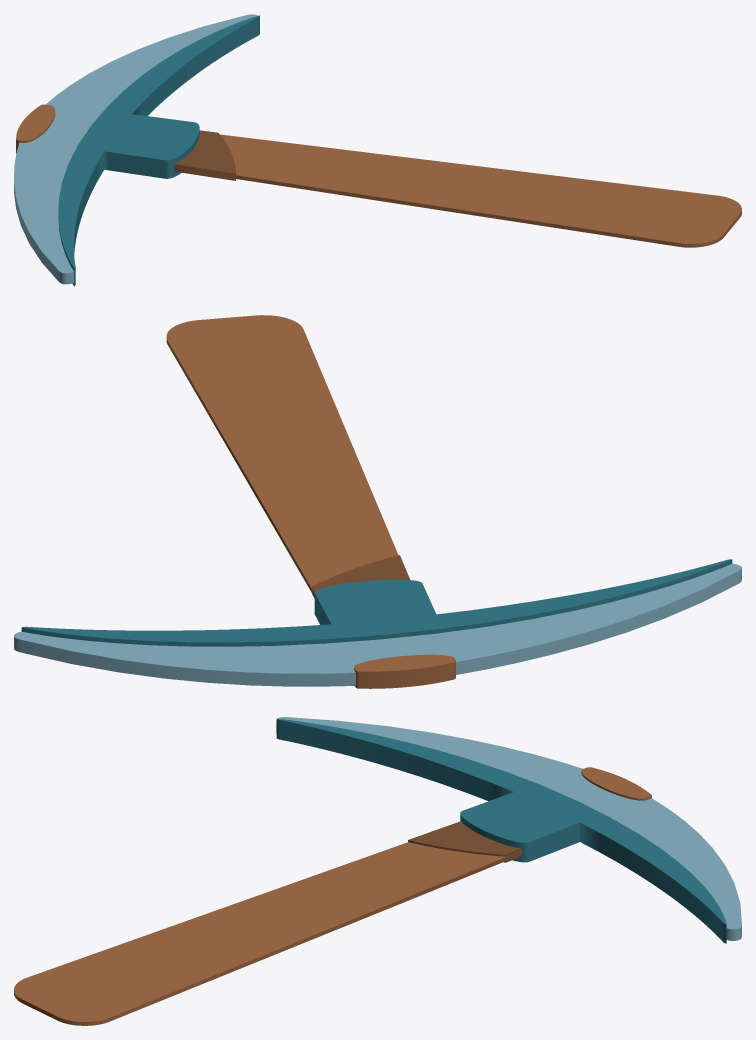
The model's file is emoji_u26cf.glb.
3 views of the same model, one above another, from view 1: azimuth 30°, elevation 25°; view 2: azimuth 150°, elevation 25°; view 3: azimuth 270°, elevation 25° (orthographic). The views are drawn at different scales.
Visible parts, largest first — view 1: emoji_u26cf; view 2: emoji_u26cf; view 3: emoji_u26cf.
Boxes of the visible parts, bbox=[...] form: emoji_u26cf: bbox=[14, 14, 741, 286]; emoji_u26cf: bbox=[14, 315, 741, 688]; emoji_u26cf: bbox=[14, 717, 741, 1025].
Bounding box in the file's own units: 0.033 × 0.001 × 0.0338.
